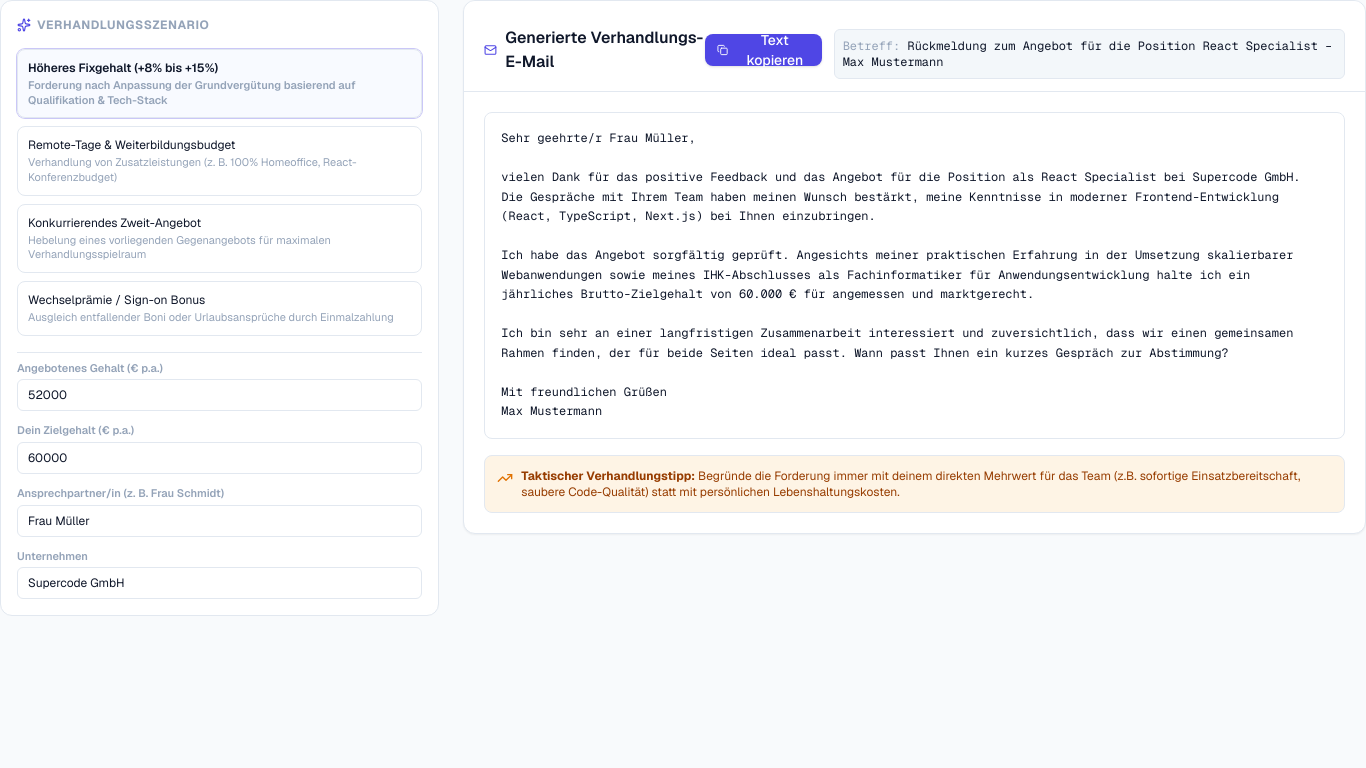
Test: OfferNegotiationGenerator › rendert Szenarien und generiert E-Mail-Vorschau
The width and height of the screenshot is (1366, 768).
Expected: the heading "Generierte Verhandlungs-E-Mail" is shown, [484,26,705,74]
Expected: the text "Taktischer Verhandlungstipp:" is shown, [521,468,695,484]
Click the text "Remote-Tage & Weiterbildungsbudget".
click(132, 145)  # box [28,137,236,153]
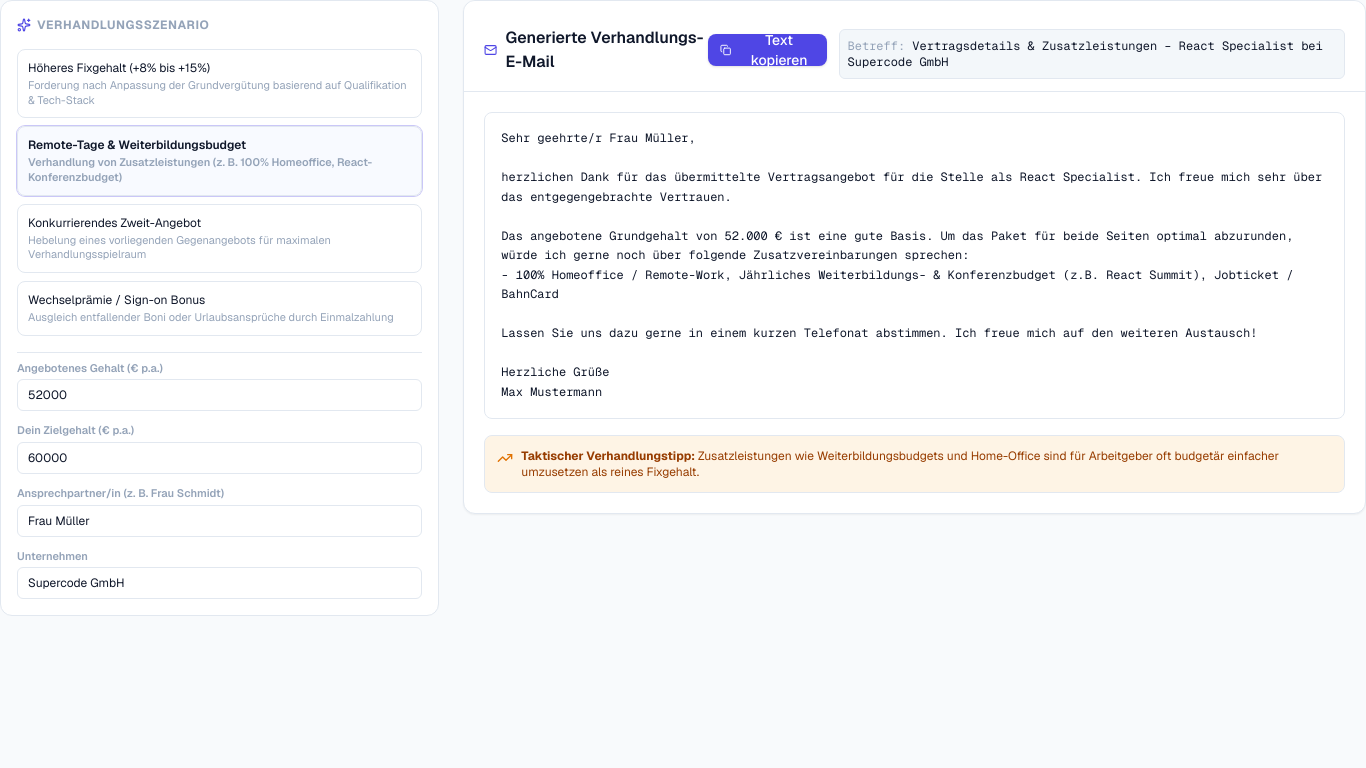
Now the text "Zusatzleistungen wie Weiterbildungsbudgets" is shown, box [521,448,1279,480]
